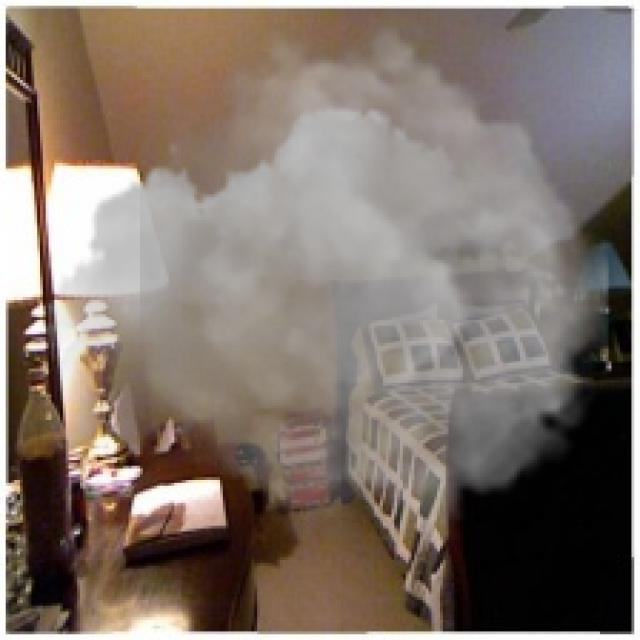Smoke: (46, 6, 608, 554)
